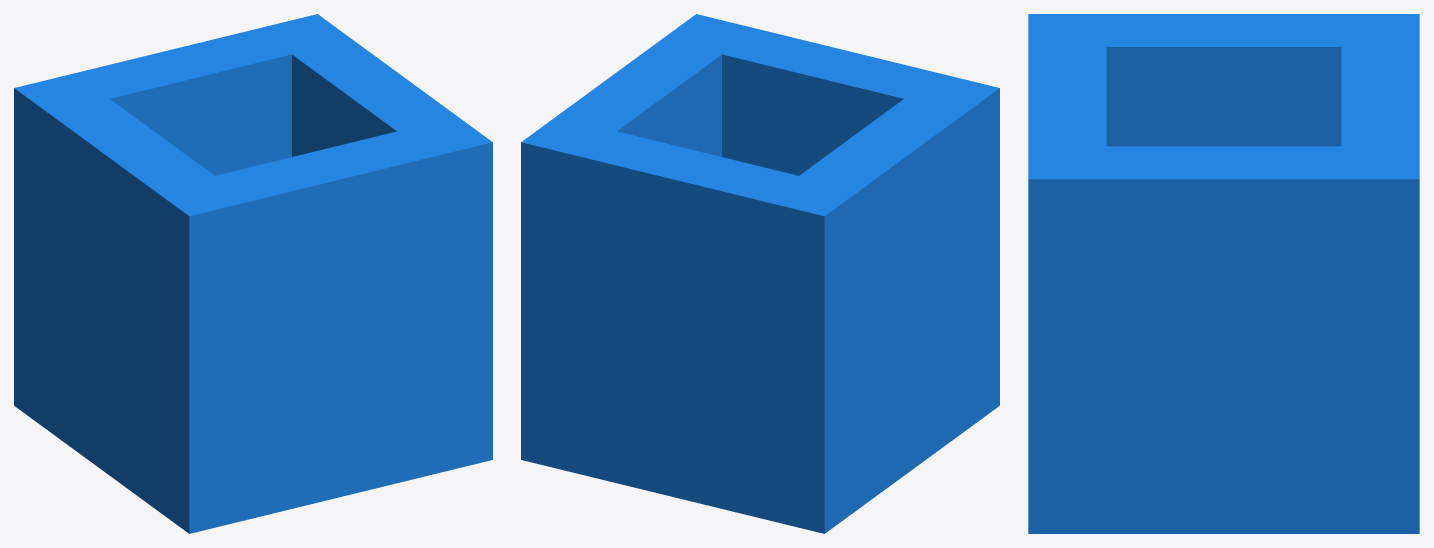
The model's file is Proto_Block_Tube_Square_01.fbx.
The picture shows the model from 3 angles, left to right: view 1: azimuth 30°, elevation 25°; view 2: azimuth 150°, elevation 25°; view 3: azimuth 270°, elevation 25°; orthographic projection. The views are drawn at different scales.
Visible parts, largest first — view 1: Proto_Block_Tube_Square_01; view 2: Proto_Block_Tube_Square_01; view 3: Proto_Block_Tube_Square_01.
Boxes of the visible parts, x1,y1,x2,y2 form: Proto_Block_Tube_Square_01: (14, 14, 492, 533); Proto_Block_Tube_Square_01: (521, 14, 999, 533); Proto_Block_Tube_Square_01: (1028, 14, 1419, 533).
Bounding box in the file's own units: 1 × 1 × 1.
